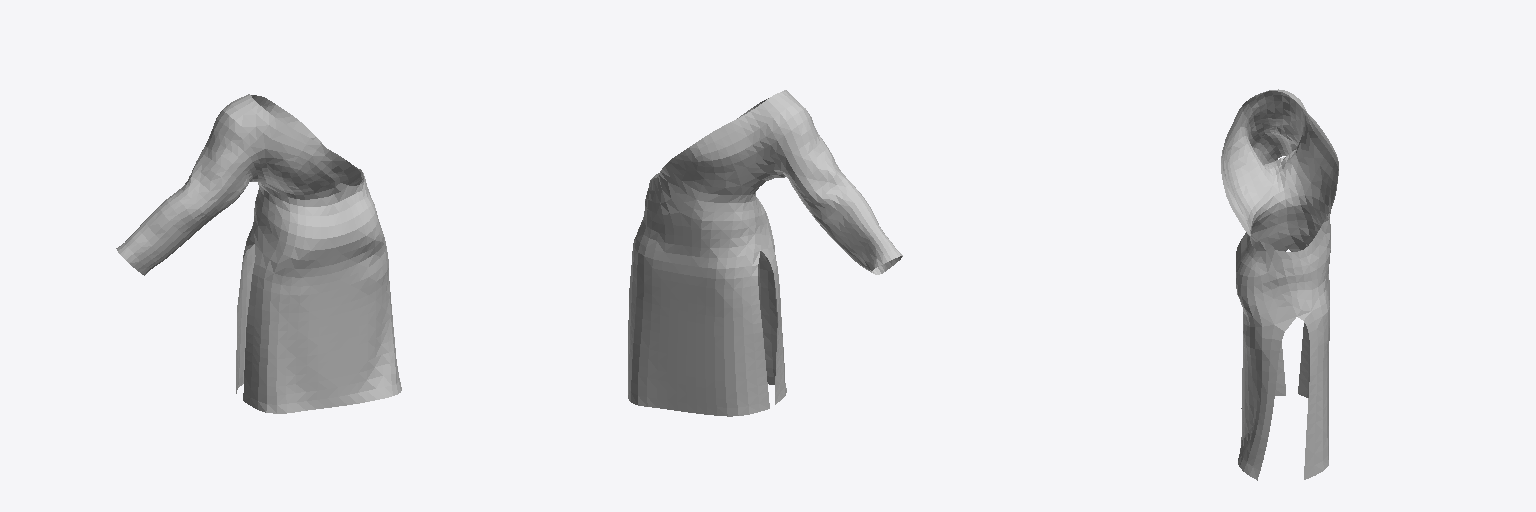
Rendered from SotanaLow.OBJ.
3 renders of one model, left to right at view 1: azimuth 30°, elevation 25°; view 2: azimuth 150°, elevation 25°; view 3: azimuth 270°, elevation 25°, orthographic.
Visible parts, largest first — view 1: Group50609; view 2: Group50609; view 3: Group50609.
Boxes of the visible parts, x1=… form: Group50609: x1=116, y1=94, x2=401, y2=413; Group50609: x1=628, y1=90, x2=902, y2=416; Group50609: x1=1221, y1=89, x2=1338, y2=480.
Bounding box in the file's own units: 1260 × 1445 × 481.